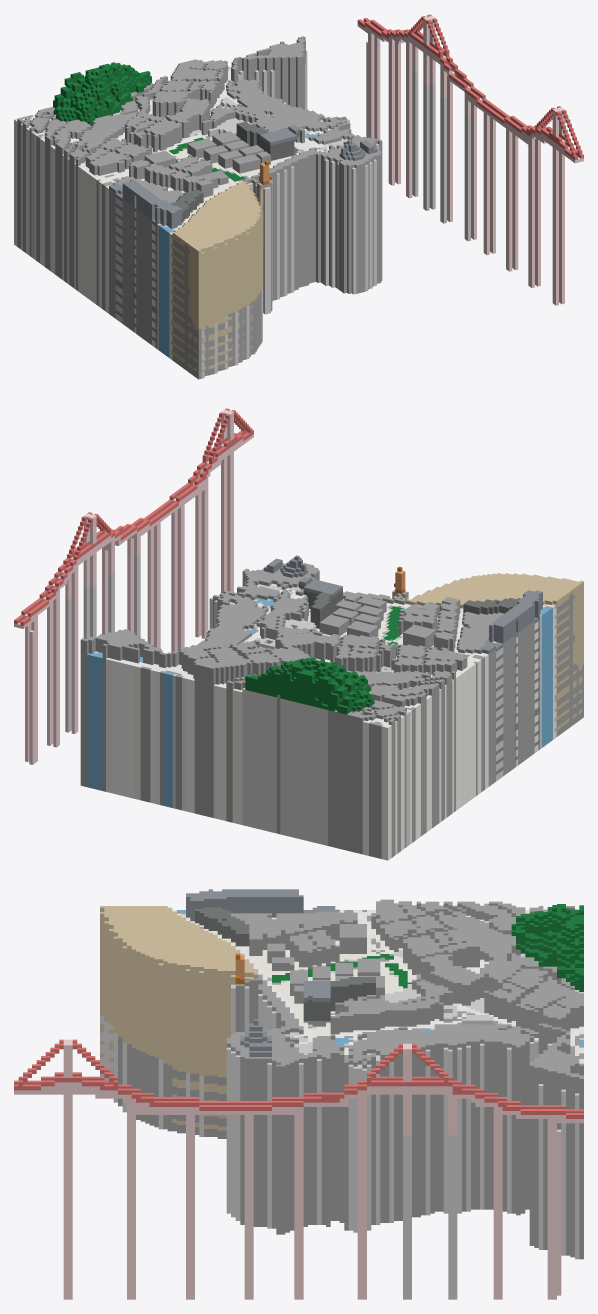
The model's file is 200607 macau ver4-0.obj.
3 views of the same model, one above another, from view 1: azimuth 30°, elevation 25°; view 2: azimuth 150°, elevation 25°; view 3: azimuth 270°, elevation 25° (orthographic). The views are drawn at different scales.
Size of the model in its own units: 11.8 by 6.2 by 12.6.
Materials: 1 (1 with a texture image).
